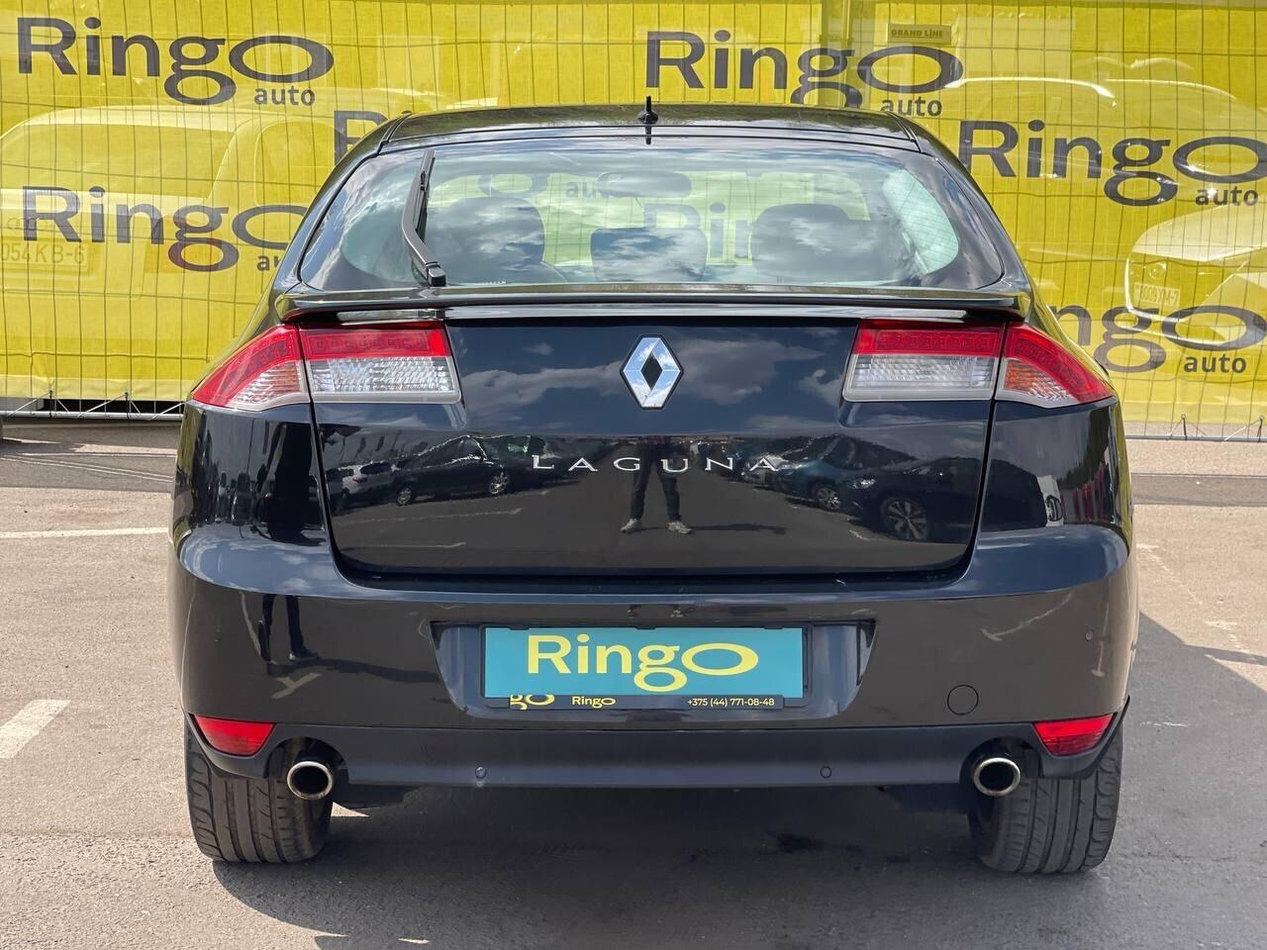Laguna_2007-2011: (169, 105, 1137, 873)
